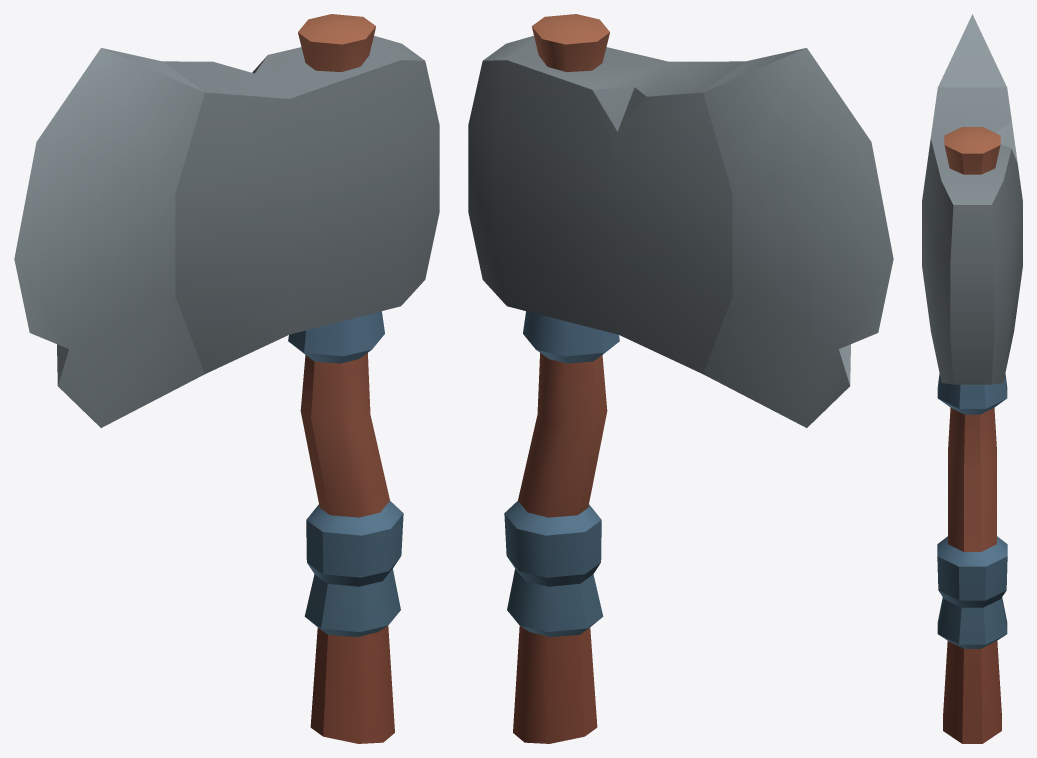
The model's file is kaykit-axe.glb.
The picture shows the model from 3 angles, left to right: view 1: azimuth 30°, elevation 25°; view 2: azimuth 150°, elevation 25°; view 3: azimuth 270°, elevation 25°; orthographic projection. The views are drawn at different scales.
Parts seen in each view (by area): view 1: kaykit-axe; view 2: kaykit-axe; view 3: kaykit-axe.
Boxes of the visible parts, x1,y1,x2,y2 form: kaykit-axe: (14, 14, 439, 743); kaykit-axe: (468, 14, 893, 743); kaykit-axe: (922, 14, 1022, 743).
Size of the model in its own units: 0.5358 by 0.9333 by 0.1387.
1 material, 1 textured.
